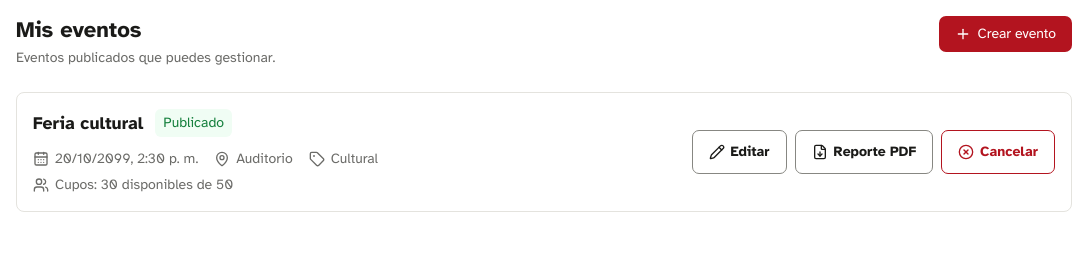
Test: MisEventos (HU-17) › muestra el mensaje del backend si no se puede generar el reporte
Check: the heading "Feria cultural" is shown, box 33,111 -> 143,135
Click the button with aria-label "Descargar reporte de inscritos de Feria cultural": (864, 152) 794,130 -> 933,174
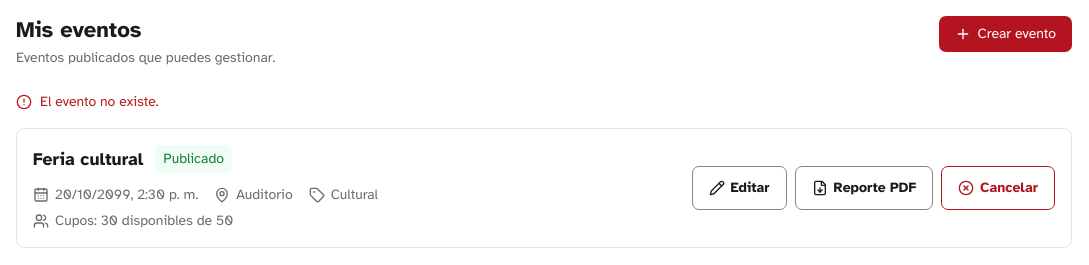
Check: the message reads "El evento no existe.", box 40,93 -> 159,110
